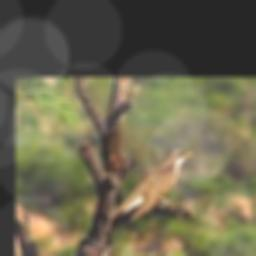Cuckoo: (110, 146, 193, 222)
